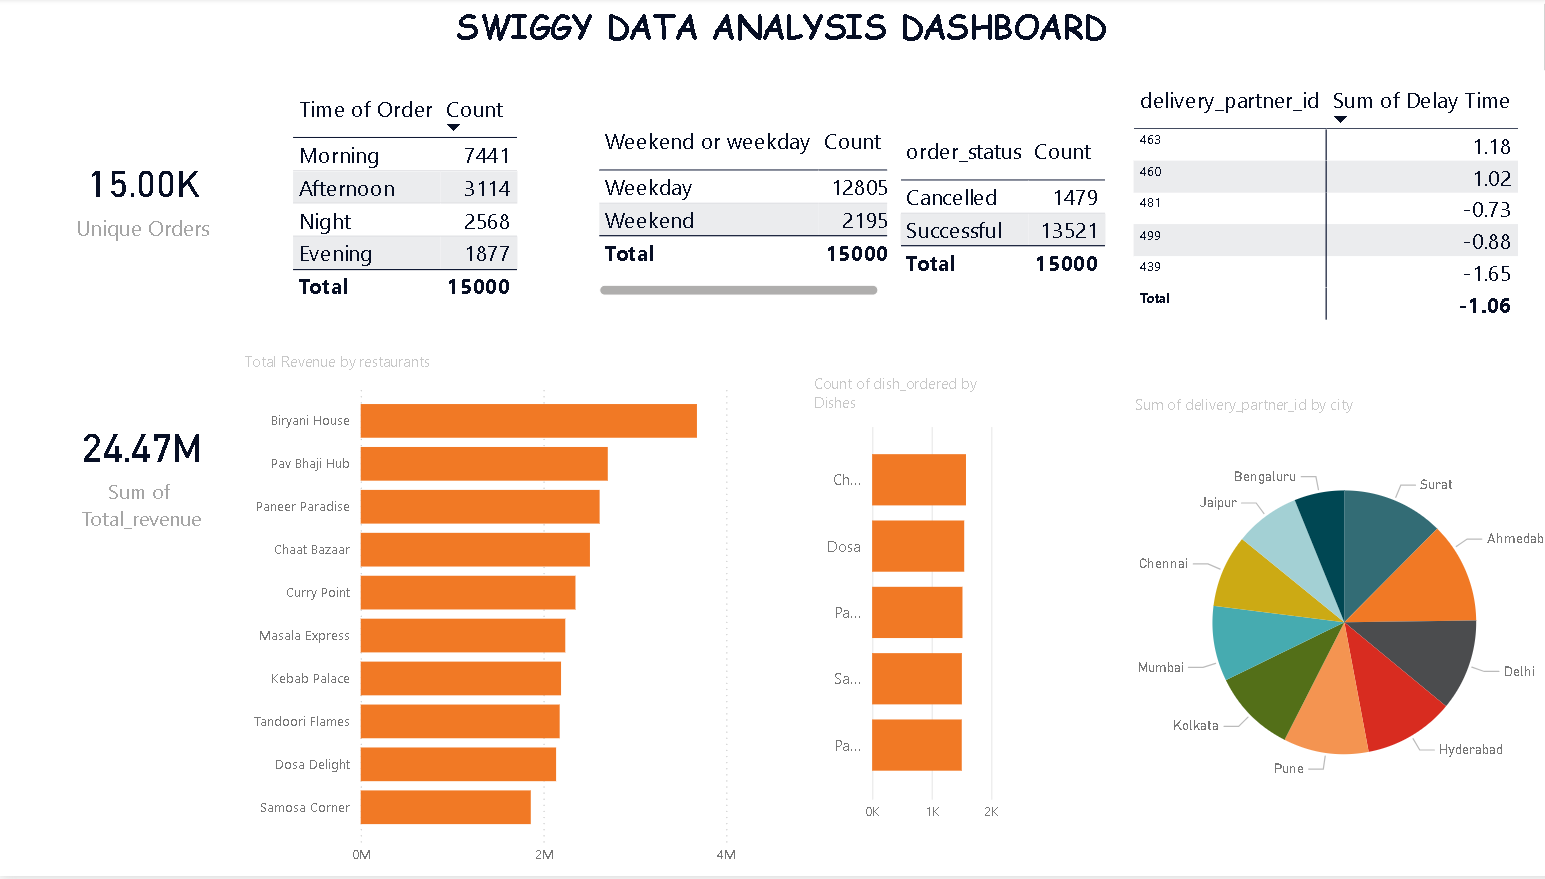

The dashboard page shown, as its layout file describes it:
{"tool":"powerbi","page":{"name":"Page 1","canvas":[1280,720],"ordinal":0},"visuals":[{"type":"textbox","box":[10.2,0,1270.1,64.8],"z":0},{"type":"card","fields":{"Values":["Count(Orders.order_id)"]},"box":[31.4,73.3,173.3,179.1],"z":1000},{"type":"clusteredBarChart","fields":{"Y":["Sum(Orders.Total_revenue)"],"Category":["restaurants.restaurant_name"]},"box":[197.1,290.5,412.7,429.1],"z":2000},{"type":"clusteredBarChart","fields":{"Category":["Orders.dish_ordered"],"Y":["CountNonNull(Orders.dish_ordered)"]},"box":[663.7,307.3,161.6,376.6],"z":3000},{"type":"tableEx","fields":{"Values":["Orders.Time of Order","CountNonNull(Orders.Time of Order)"]},"box":[235.1,71.9,197.1,194],"z":4000},{"type":"tableEx","fields":{"Values":["Orders.Weekend or weekday","Orders.Measure"]},"box":[485.6,98.6,247.4,150.9],"z":6000},{"type":"tableEx","fields":{"Values":["Orders.order_status","Orders.Measure 2"]},"box":[733,106.8,183.8,144.8],"z":7000},{"type":"pivotTable","fields":{"Rows":["Orders.delivery_partner_id"],"Values":["Sum(Orders.Delay Time)"]},"box":[926,64.7,328.5,216.6],"z":8000},{"type":"card","fields":{"Values":["Sum(Orders.Total_revenue)"]},"box":[50,290.7,133.7,173.3],"z":9000},{"type":"pieChart","fields":{"Category":["delivery_partners.city"],"Y":["Sum(delivery_partners.delivery_partner_id)"]},"box":[926.4,324.8,353.6,358.4],"z":9001}]}

Visuals, with their boxes in screenshot pixels (x1, y1, x2, y2), scaled from the page's 1280x720 canvas onto the 1545x879 screenshot:
textbox: (left=12, top=0, right=1544, bottom=79)
card - Count(Orders.order_id): (left=38, top=89, right=247, bottom=308)
clusteredBarChart - Sum(Orders.Total_revenue) x restaurants.restaurant_name: (left=238, top=355, right=736, bottom=878)
clusteredBarChart - Orders.dish_ordered x CountNonNull(Orders.dish_ordered): (left=801, top=375, right=996, bottom=835)
tableEx - Orders.Time of Order x CountNonNull(Orders.Time of Order): (left=284, top=88, right=522, bottom=325)
tableEx - Orders.Weekend or weekday x Orders.Measure: (left=586, top=120, right=885, bottom=305)
tableEx - Orders.order_status x Orders.Measure 2: (left=885, top=130, right=1107, bottom=307)
pivotTable - Orders.delivery_partner_id x Sum(Orders.Delay Time): (left=1118, top=79, right=1514, bottom=343)
card - Sum(Orders.Total_revenue): (left=60, top=355, right=222, bottom=566)
pieChart - delivery_partners.city x Sum(delivery_partners.delivery_partner_id): (left=1118, top=397, right=1544, bottom=834)
